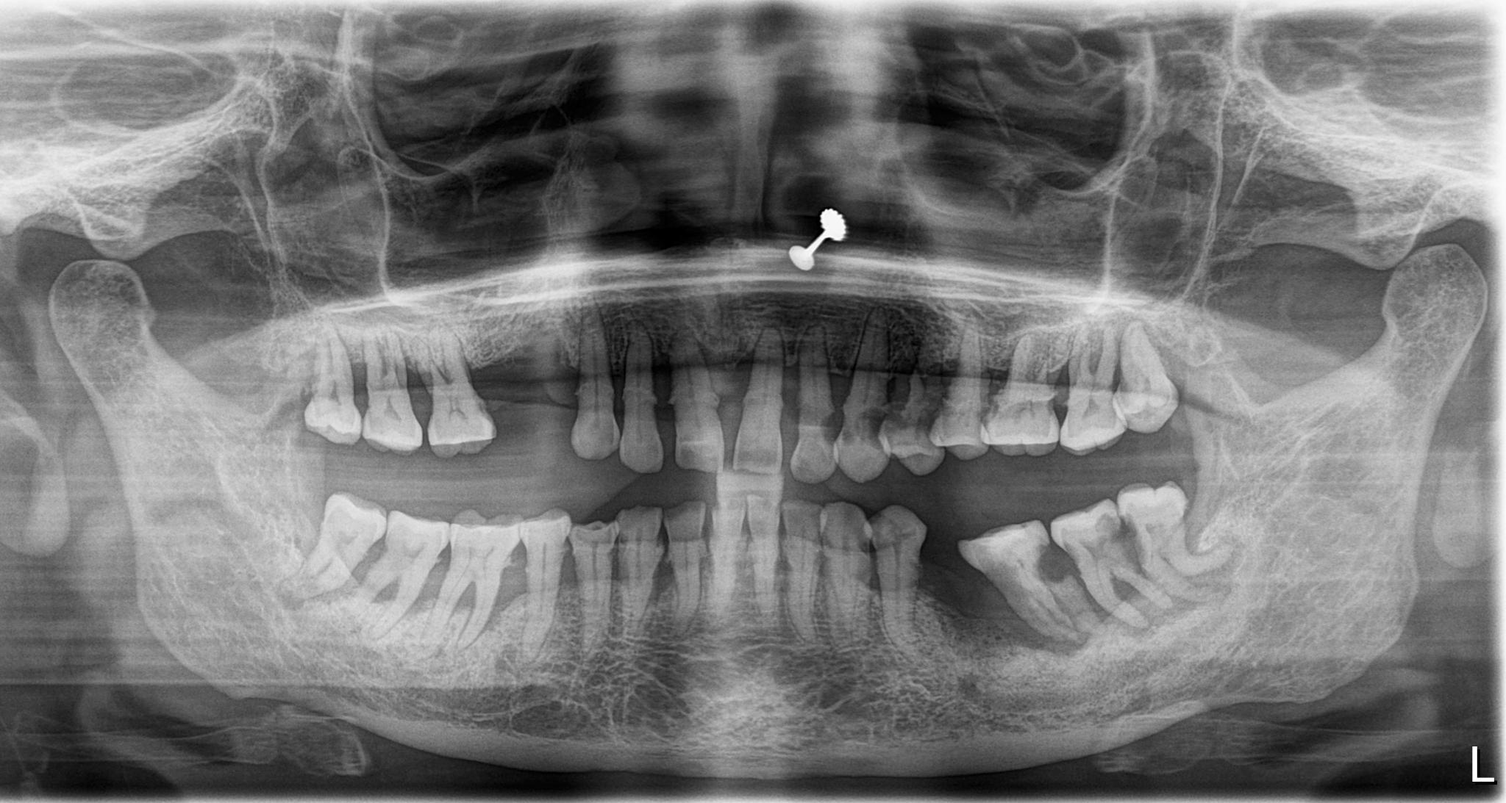Dental Caries: (820, 406, 886, 443), (1041, 538, 1074, 587)
Impacted Third Molar: (1125, 489, 1241, 582), (296, 496, 377, 588)
Missing Tooth: (914, 540, 979, 659), (474, 347, 527, 449), (531, 351, 579, 453)
